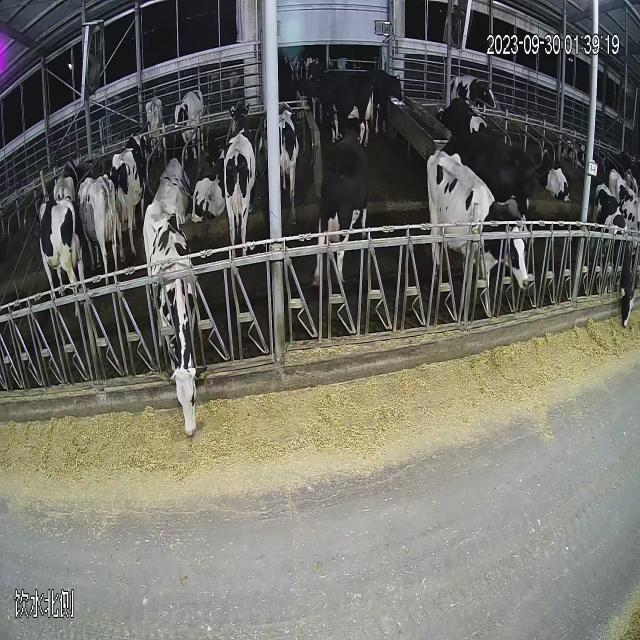drinking: (311, 56, 412, 140)
feeding: (147, 212, 209, 476)
standing: (424, 144, 530, 308), (38, 195, 86, 292), (222, 124, 262, 238), (274, 74, 298, 196)
